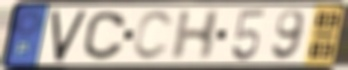5: (230, 8, 267, 62)
9: (270, 9, 307, 61)
C: (130, 9, 176, 63), (81, 10, 128, 62)
H: (168, 8, 224, 63)
V: (50, 8, 89, 64)
